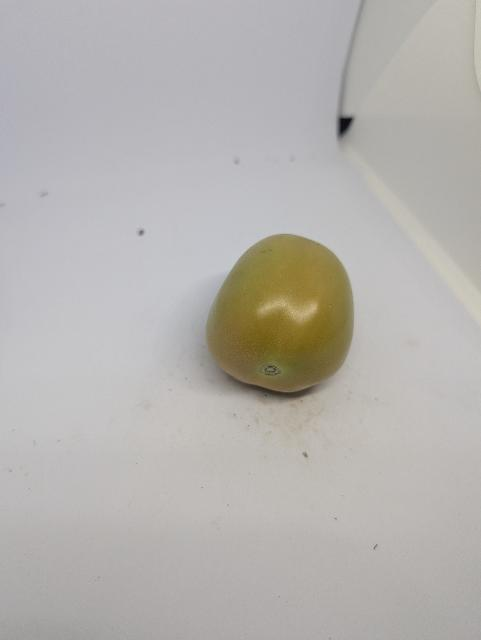breaker: (203, 234, 361, 399)
